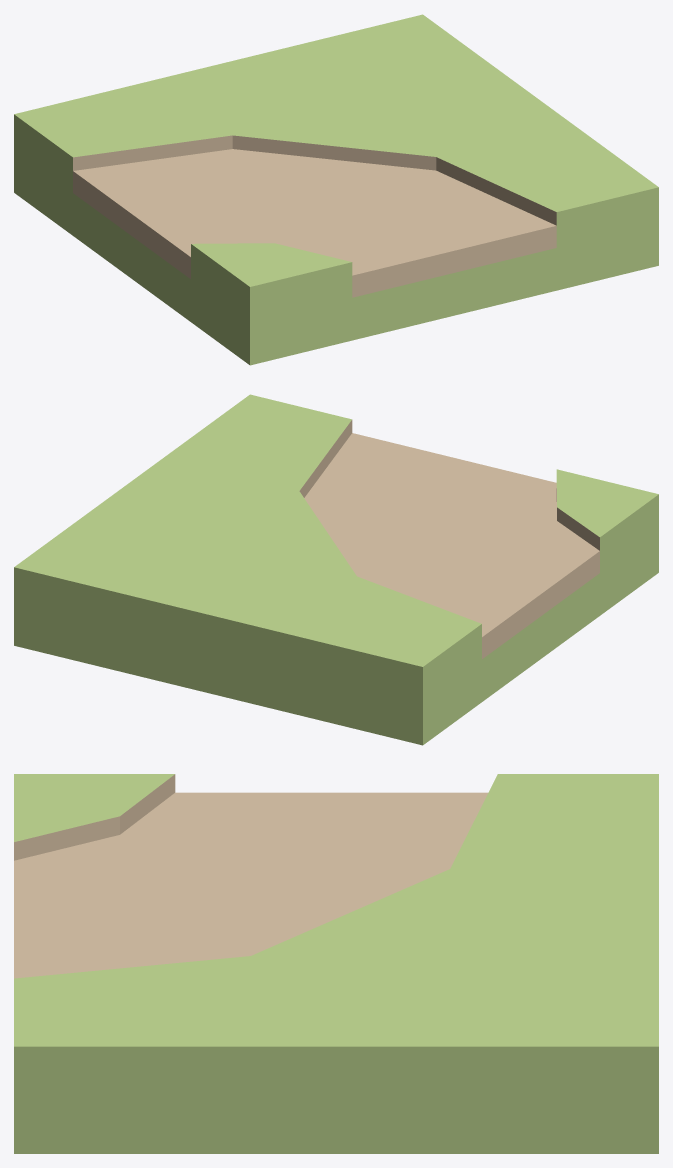
Rendered from tile178.glb.
3 renders of one model, top to bottom at view 1: azimuth 30°, elevation 25°; view 2: azimuth 150°, elevation 25°; view 3: azimuth 270°, elevation 25°, orthographic. The views are drawn at different scales.
Parts seen in each view (by area): view 1: tile178; view 2: tile178; view 3: tile178.
Part boxes in pixels (box(x1,y1,x2,y2)): tile178: box(14, 14, 658, 365); tile178: box(14, 394, 658, 745); tile178: box(14, 774, 658, 1153).
Bounding box in the file's own units: 1 × 0.1833 × 1.
